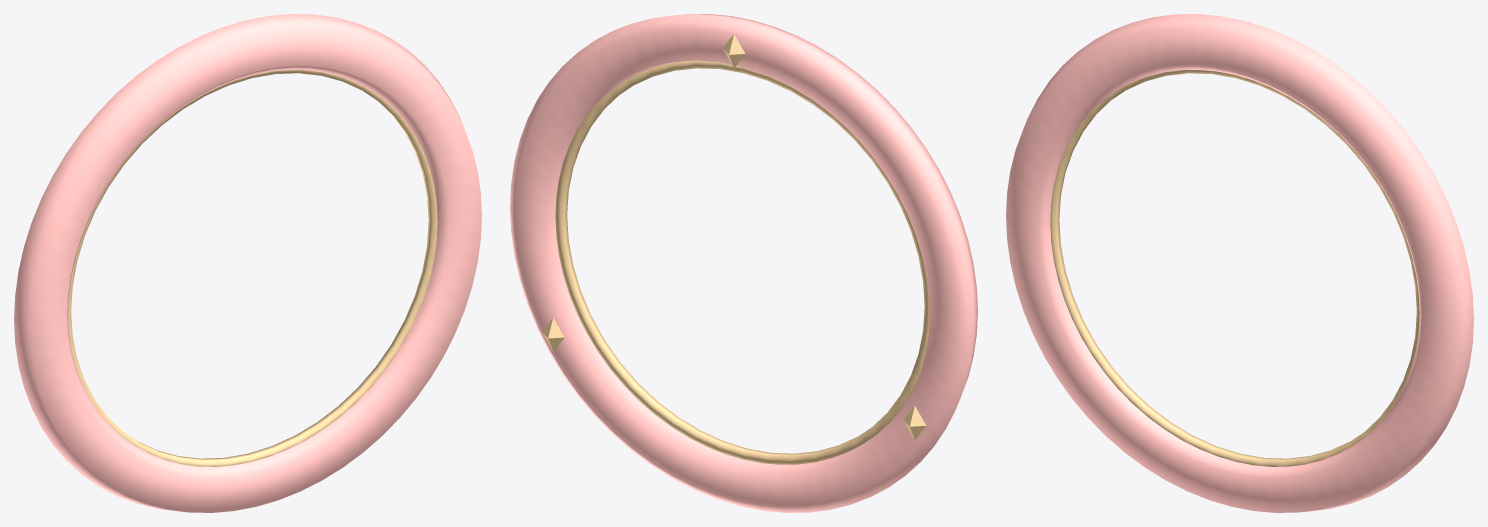
Rendered from countdown-ring.glb.
The picture shows the model from 3 angles, left to right: view 1: azimuth 30°, elevation 25°; view 2: azimuth 150°, elevation 25°; view 3: azimuth 330°, elevation 25°; orthographic projection.
Parts seen in each view (by area): view 1: countdown_lens_bezel, countdown_index_0; view 2: countdown_lens_bezel, countdown_index_0; view 3: countdown_lens_bezel, countdown_index_0.
Boxes of the visible parts, bbox=[...] form: countdown_lens_bezel: bbox=[14, 14, 481, 512]; countdown_index_0: bbox=[68, 21, 437, 466]; countdown_lens_bezel: bbox=[510, 14, 977, 512]; countdown_index_0: bbox=[542, 34, 929, 464]; countdown_lens_bezel: bbox=[1006, 14, 1473, 512]; countdown_index_0: bbox=[1050, 21, 1419, 466].
Size of the model in its own units: 2.91 by 2.91 by 0.27.
